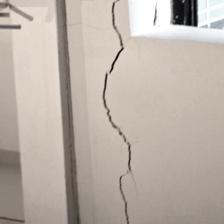Medium: (83, 1, 132, 221)
